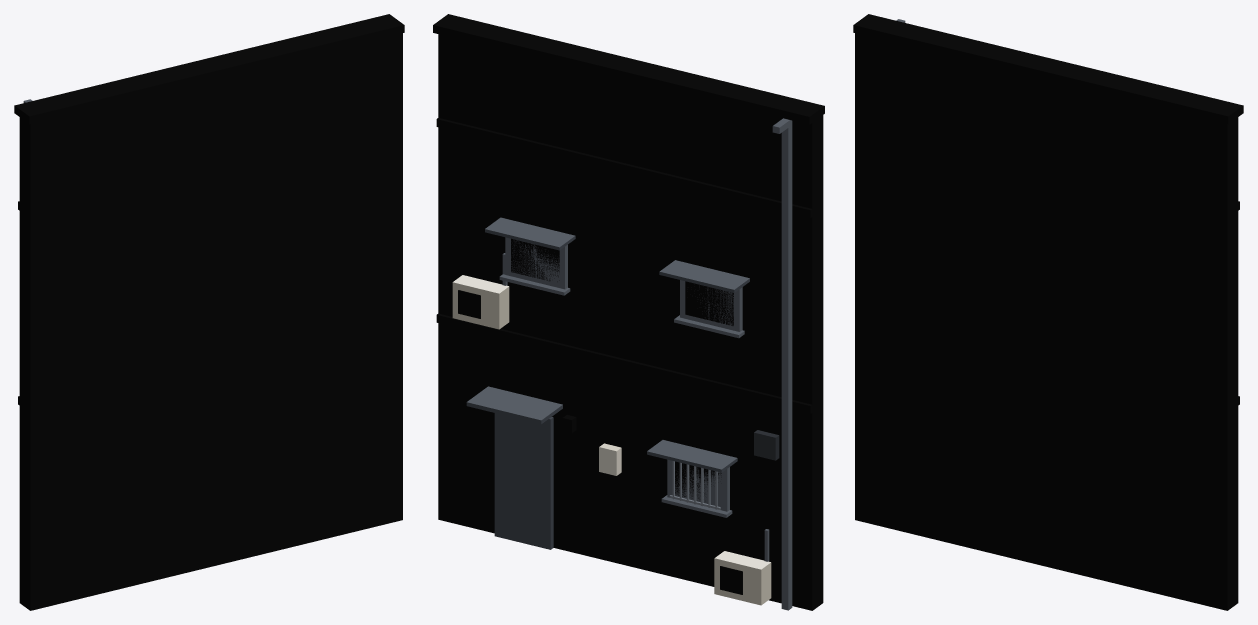
File: BackFacade_A.fbx
3 renders of one model, left to right at view 1: azimuth 30°, elevation 25°; view 2: azimuth 150°, elevation 25°; view 3: azimuth 330°, elevation 25°, orthographic.
Parts seen in each view (by area): view 1: Body.008, Coping; view 2: Body.008, Coping, BackDoor, Band, Pipes.012, WinFrame.012, Hoods.009, Glass.012, AirCon.008, DoorHood, Grilles.005, LitGlass.012 (+2 smaller); view 3: Body.008, Coping.
Part boxes in pixels (x1,y1,x2,y2): Body.008: (19, 33, 402, 610); Coping: (14, 14, 404, 124); Body.008: (438, 34, 823, 610); Coping: (433, 14, 824, 124); BackDoor: (494, 413, 553, 549); Band: (436, 118, 812, 413); Pipes.012: (502, 118, 792, 610); WinFrame.012: (499, 237, 744, 517); Hoods.009: (485, 217, 749, 472); Glass.012: (458, 238, 742, 594); AirCon.008: (452, 275, 771, 605); DoorHood: (466, 386, 562, 424); Grilles.005: (669, 461, 720, 509); LitGlass.012: (675, 461, 721, 499); Body.008: (855, 33, 1238, 610); Coping: (853, 14, 1243, 124).
Bounding box in the file's own units: 6.04 × 7.62 × 0.91.
